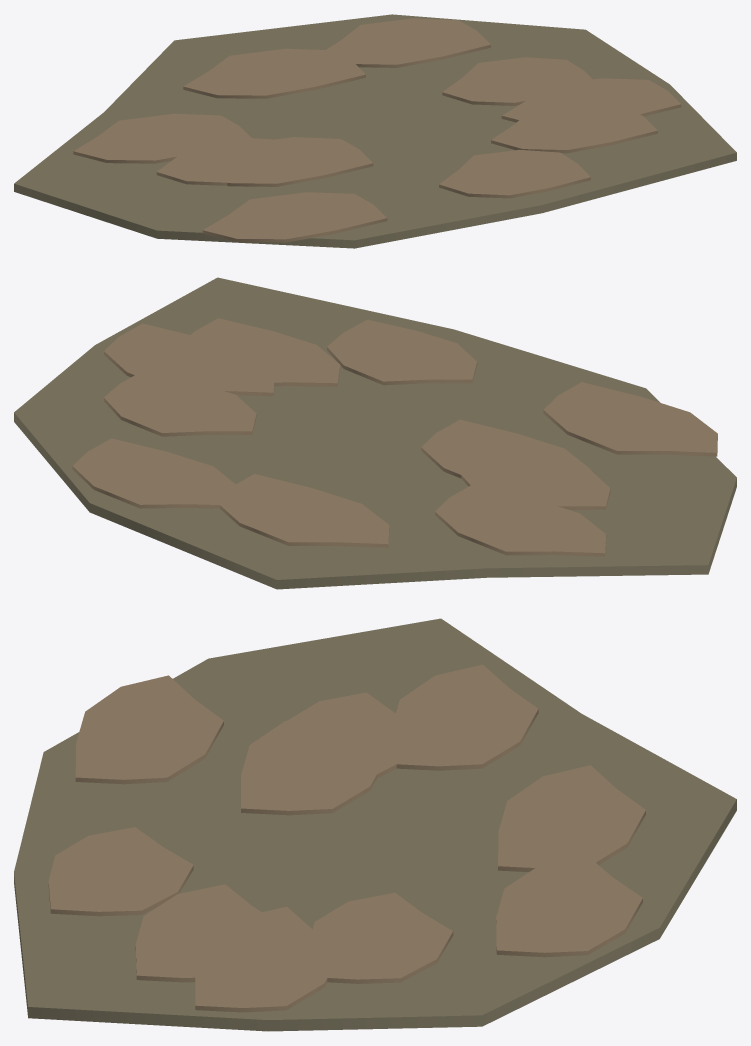
File: patch-dirt-mossy.glb
3 views of the same model, one above another, from view 1: azimuth 30°, elevation 25°; view 2: azimuth 150°, elevation 25°; view 3: azimuth 270°, elevation 25° (orthographic). The views are drawn at different scales.
Parts seen in each view (by area): view 1: patch-dirt-kit-mossy-soil, patch-dirt-kit-mossy-wood; view 2: patch-dirt-kit-mossy-soil, patch-dirt-kit-mossy-wood; view 3: patch-dirt-kit-mossy-soil, patch-dirt-kit-mossy-wood.
Part boxes in pixels (bbox=[...]): patch-dirt-kit-mossy-soil: bbox=[14, 14, 736, 248]; patch-dirt-kit-mossy-wood: bbox=[73, 18, 681, 242]; patch-dirt-kit-mossy-soil: bbox=[14, 277, 736, 589]; patch-dirt-kit-mossy-wood: bbox=[72, 318, 717, 556]; patch-dirt-kit-mossy-soil: bbox=[14, 618, 736, 1031]; patch-dirt-kit-mossy-wood: bbox=[48, 664, 645, 1012].
Size of the model in its own units: 2.66 by 0.0485 by 2.02.
